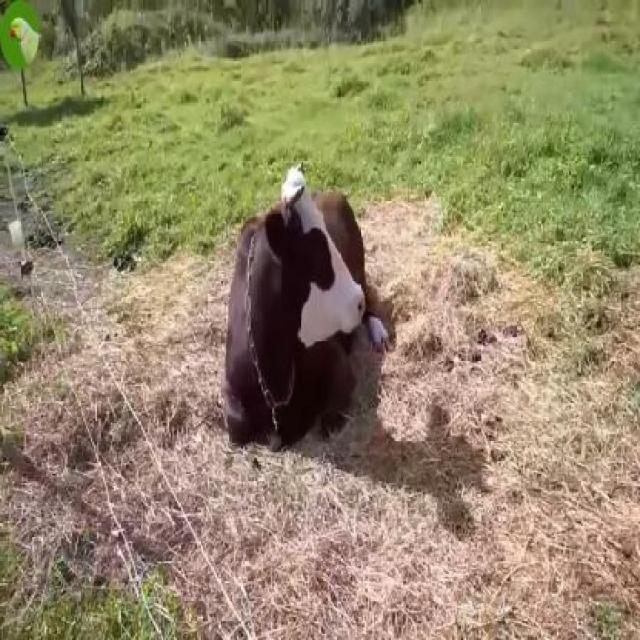Cow: (224, 172, 390, 446)
